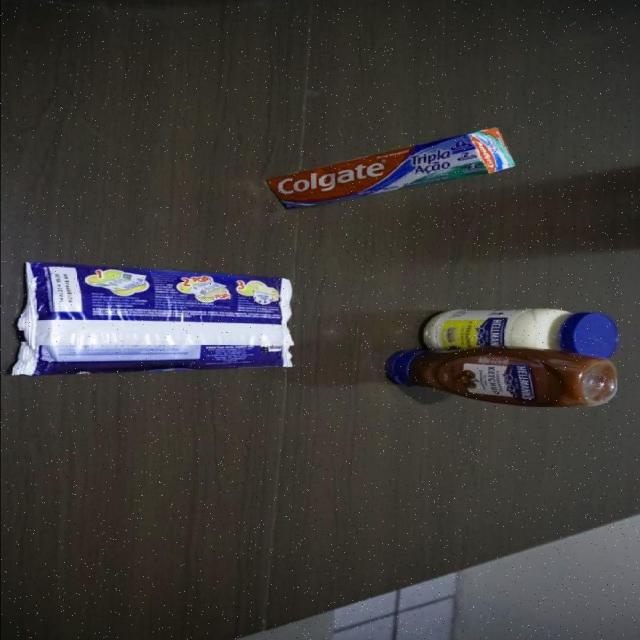Ketchup: (384, 347, 618, 409)
Mayonnaise: (421, 307, 618, 360)
Popcorn: (9, 262, 294, 378)
Toothpaste: (264, 127, 515, 211)
